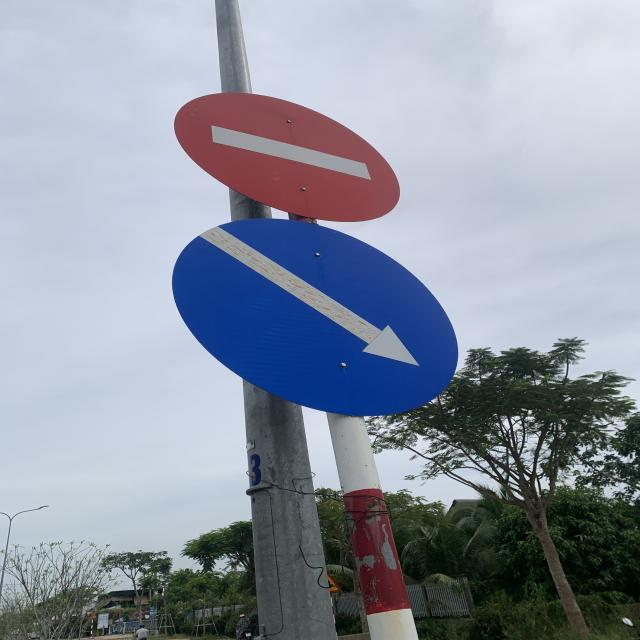Cam_Di_Nguoc_Chieu: (173, 88, 398, 221)
Chi_Huong_Di_Phai: (173, 219, 456, 416)
